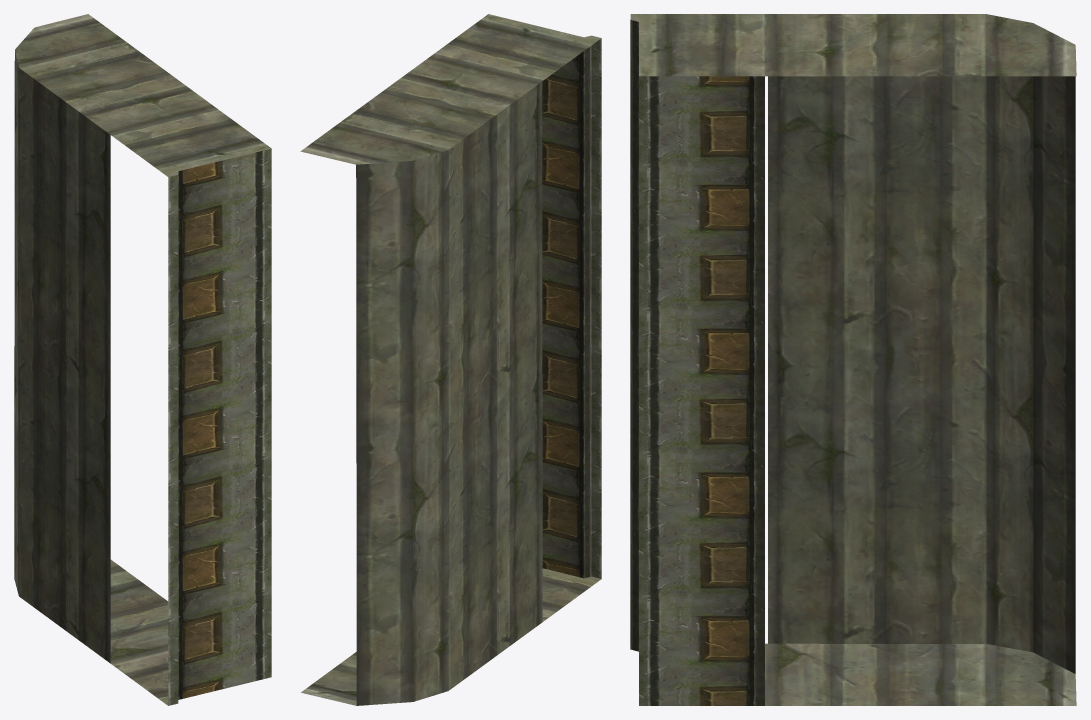
The model's file is zhucheng_yewai_291_baobian_a.obj.
The picture shows the model from 3 angles, left to right: view 1: azimuth 30°, elevation 25°; view 2: azimuth 150°, elevation 25°; view 3: azimuth 270°, elevation 25°; orthographic projection. The views are drawn at different scales.
Parts seen in each view (by area): view 1: objobjObject46; view 2: objobjObject46; view 3: objobjObject46.
Part boxes in pixels (<box>): objobjObject46: <box>14,14,271,705</box>; objobjObject46: <box>300,14,601,705</box>; objobjObject46: <box>630,14,1076,705</box>.
Bounding box in the file's own units: 105 × 494 × 317.
2 materials, 2 textured.
